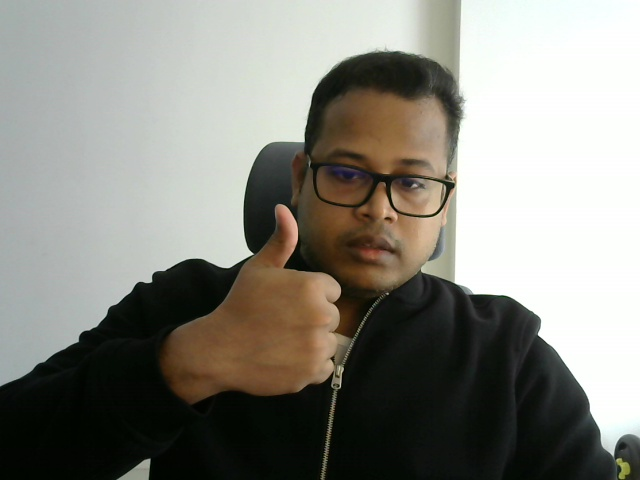ThumbsUp: (225, 203, 342, 397)
